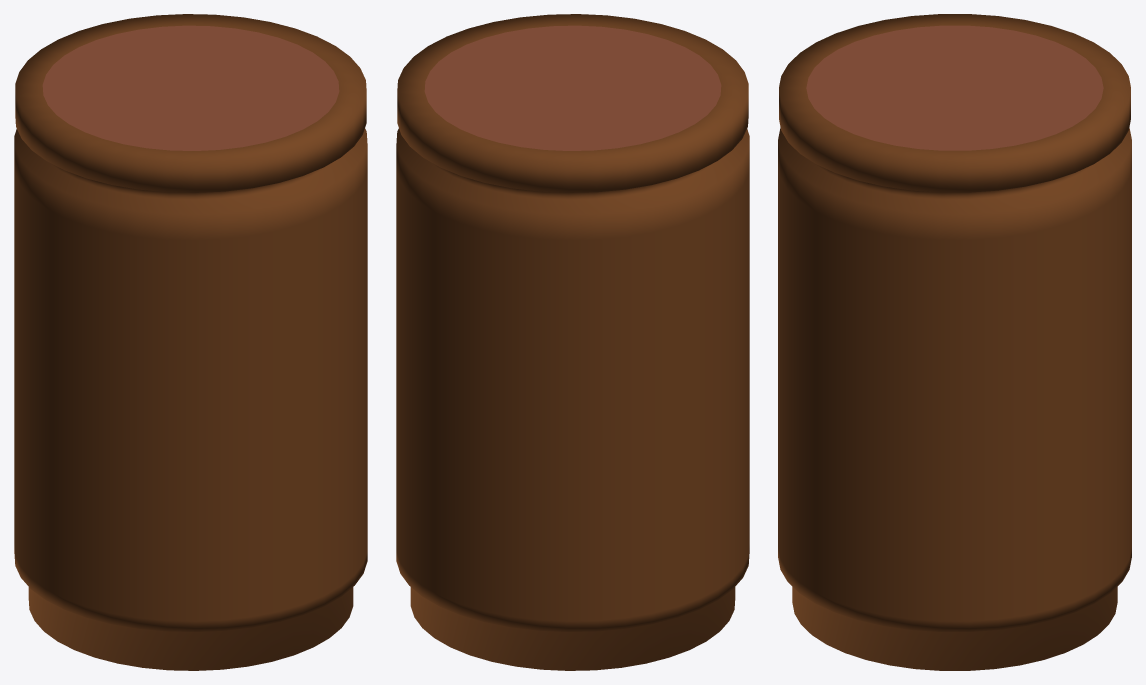
File: TestPedistal.fbx
3 renders of one model, left to right at view 1: azimuth 30°, elevation 25°; view 2: azimuth 150°, elevation 25°; view 3: azimuth 270°, elevation 25°, orthographic.
Parts seen in each view (by area): view 1: Cylinder; view 2: Cylinder; view 3: Cylinder.
Part boxes in pixels (bbox=[...]): Cylinder: bbox=[14, 14, 367, 670]; Cylinder: bbox=[396, 14, 749, 670]; Cylinder: bbox=[778, 14, 1131, 670].
Size of the model in its own units: 199 by 321 by 200.
